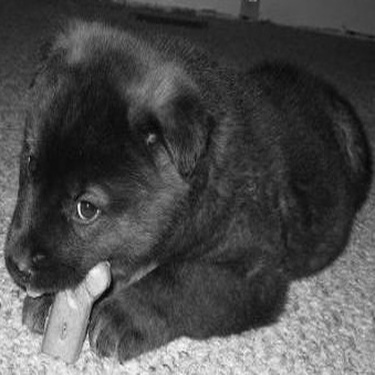dog: (3, 9, 371, 371)
